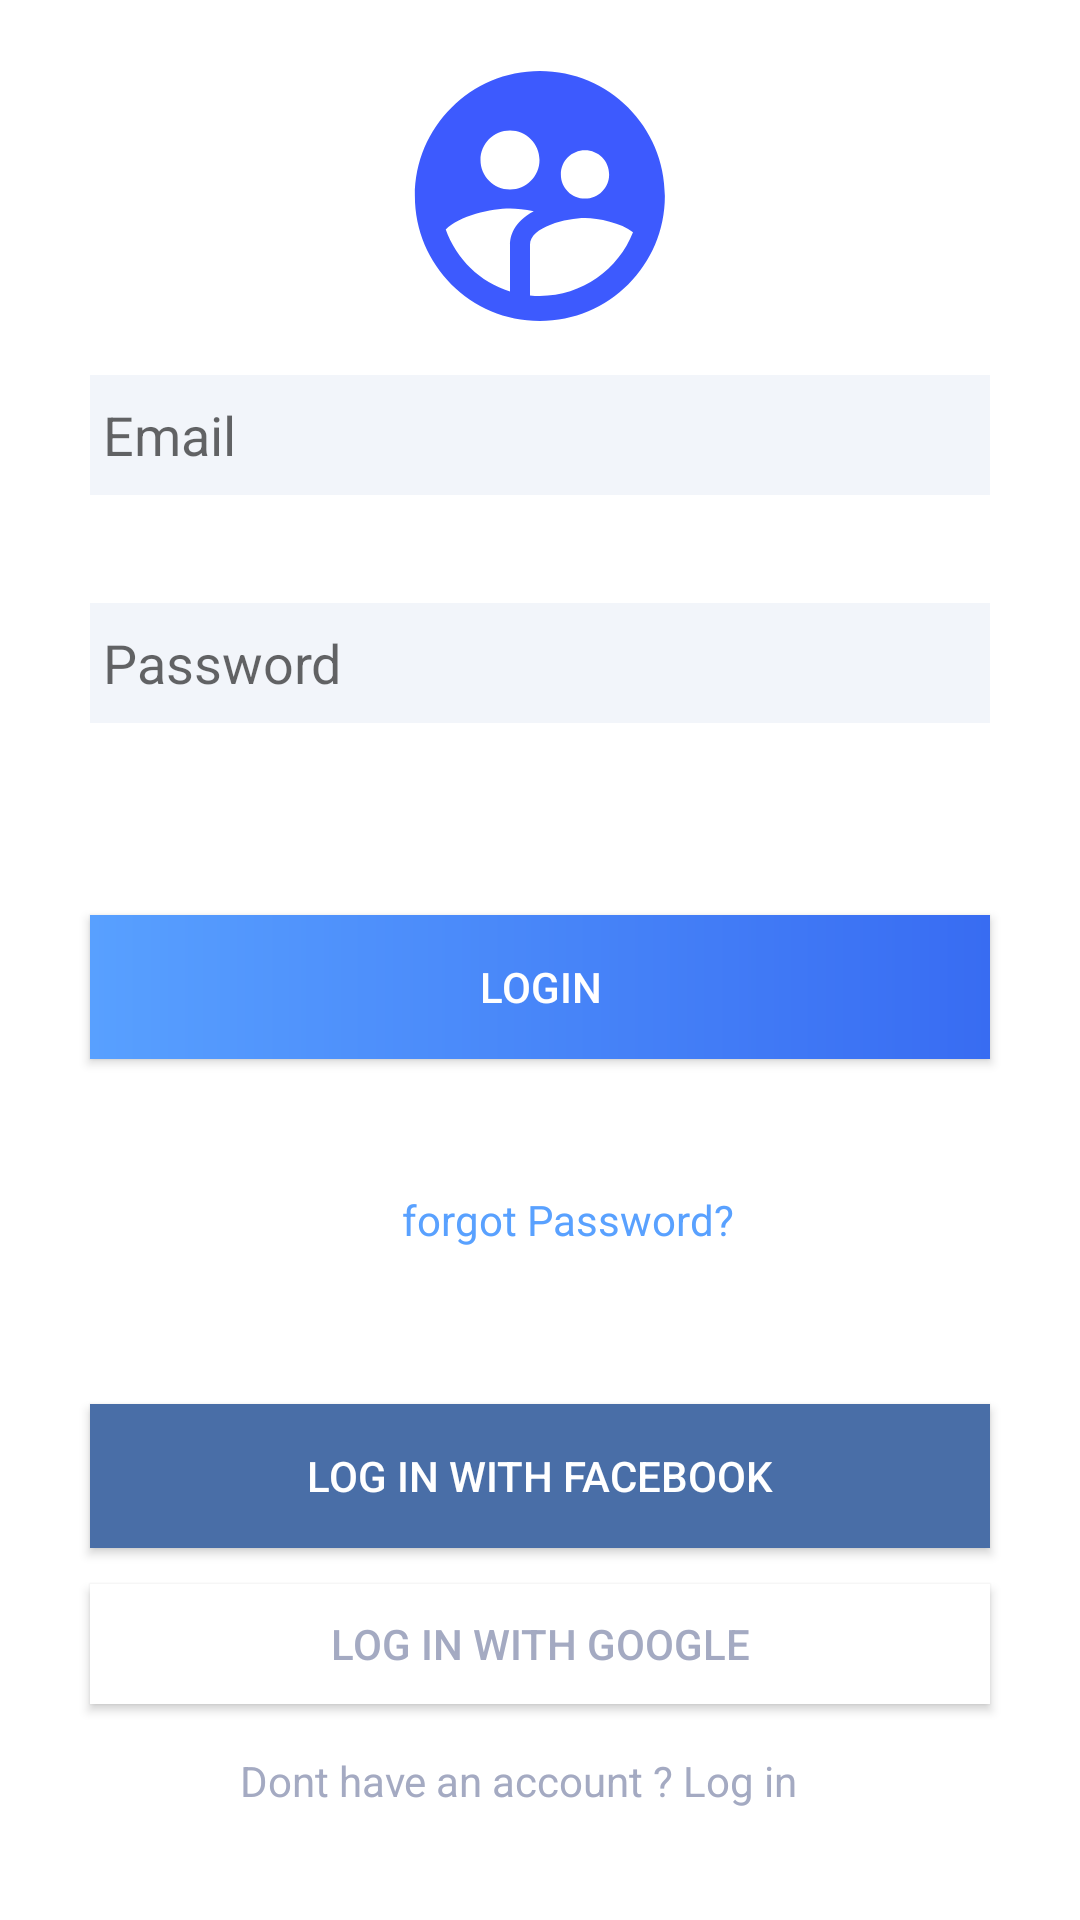

Icons on this 1080 × 1920 Android screen, each with its box as (x1, y1, x2, y2):
profile: (414, 71, 665, 321)
